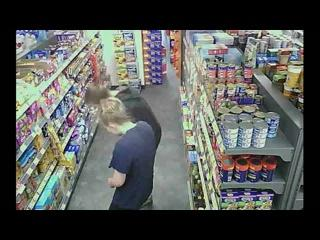Normal: (99, 96, 157, 210)
